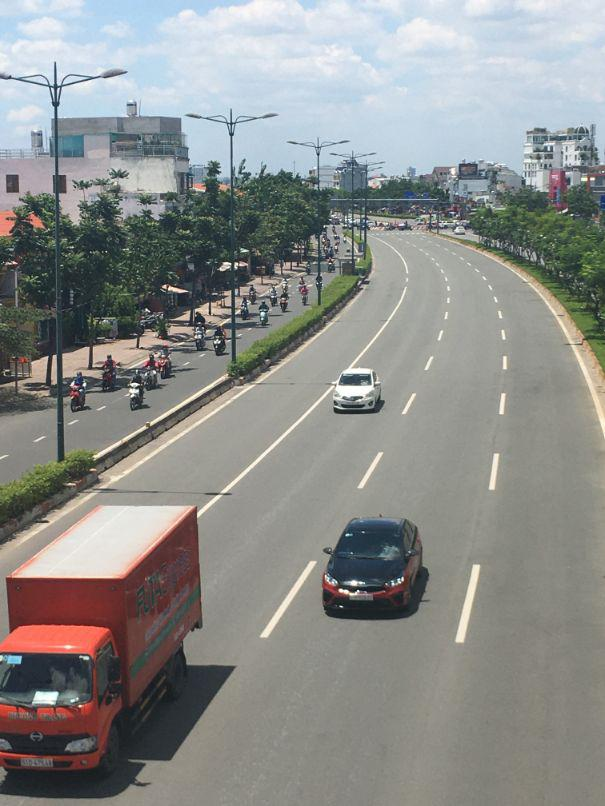car: (319, 515, 428, 620), (333, 369, 383, 415)
motorbike: (128, 381, 147, 409), (103, 361, 118, 391), (71, 383, 87, 411)
truck: (3, 501, 205, 789)
